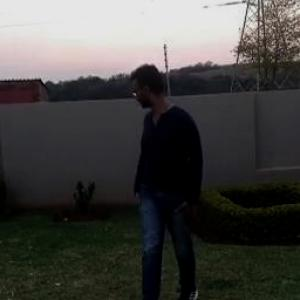follow: (127, 58, 205, 290)
